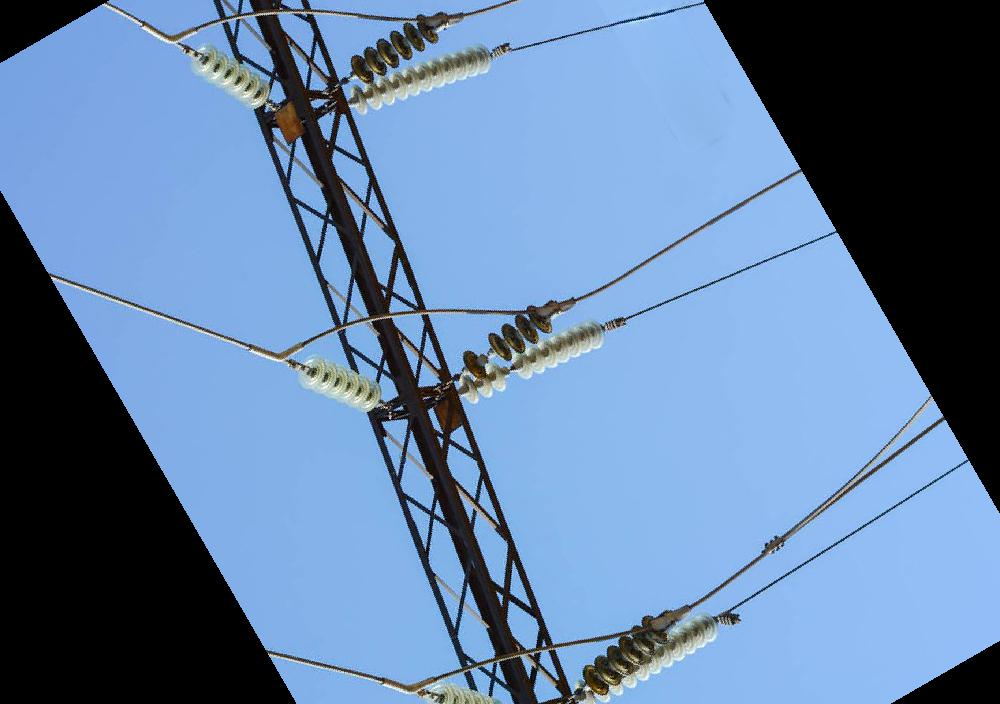insulator: (457, 311, 613, 408), (591, 608, 720, 704), (348, 39, 495, 118), (579, 614, 672, 699), (459, 302, 556, 382), (347, 9, 442, 87), (184, 42, 276, 113), (292, 352, 386, 415), (422, 680, 511, 704)
insulator_stringdrop: (460, 329, 513, 381), (485, 349, 534, 394)
